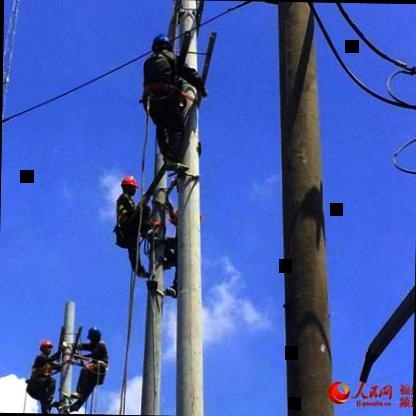helmet: (148, 30, 174, 57), (118, 167, 138, 200), (85, 322, 105, 348), (36, 337, 56, 359)
